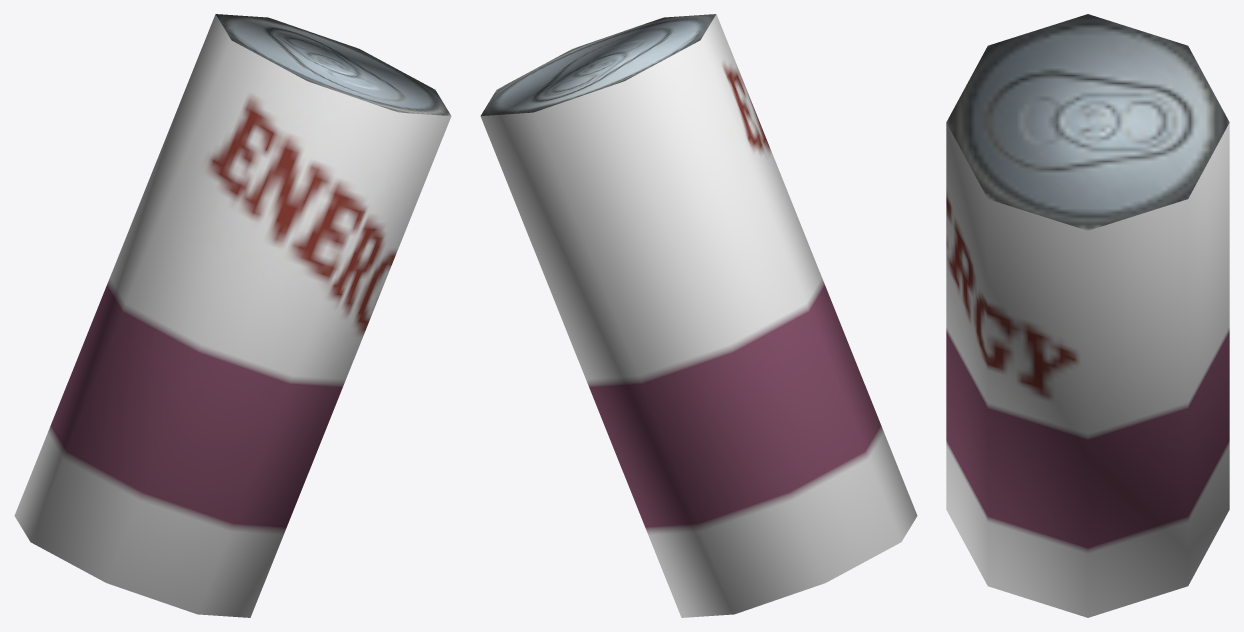
File: tokenCan.fbx
The picture shows the model from 3 angles, left to right: view 1: azimuth 30°, elevation 25°; view 2: azimuth 150°, elevation 25°; view 3: azimuth 270°, elevation 25°; orthographic projection. The views are drawn at different scales.
Visible parts, largest first — view 1: Can; view 2: Can; view 3: Can.
Boxes of the visible parts, x1,y1,x2,y2 form: Can: (14, 14, 451, 617); Can: (480, 14, 917, 617); Can: (946, 14, 1229, 617).
Size of the model in its own units: 360 by 469 by 200.
